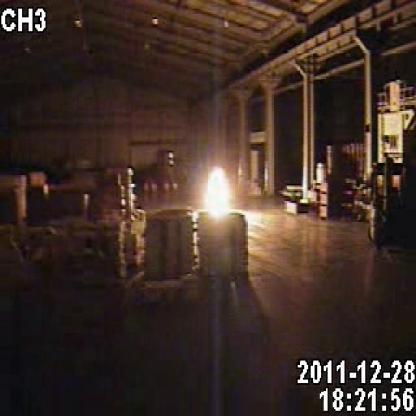fire: (182, 151, 248, 261)
